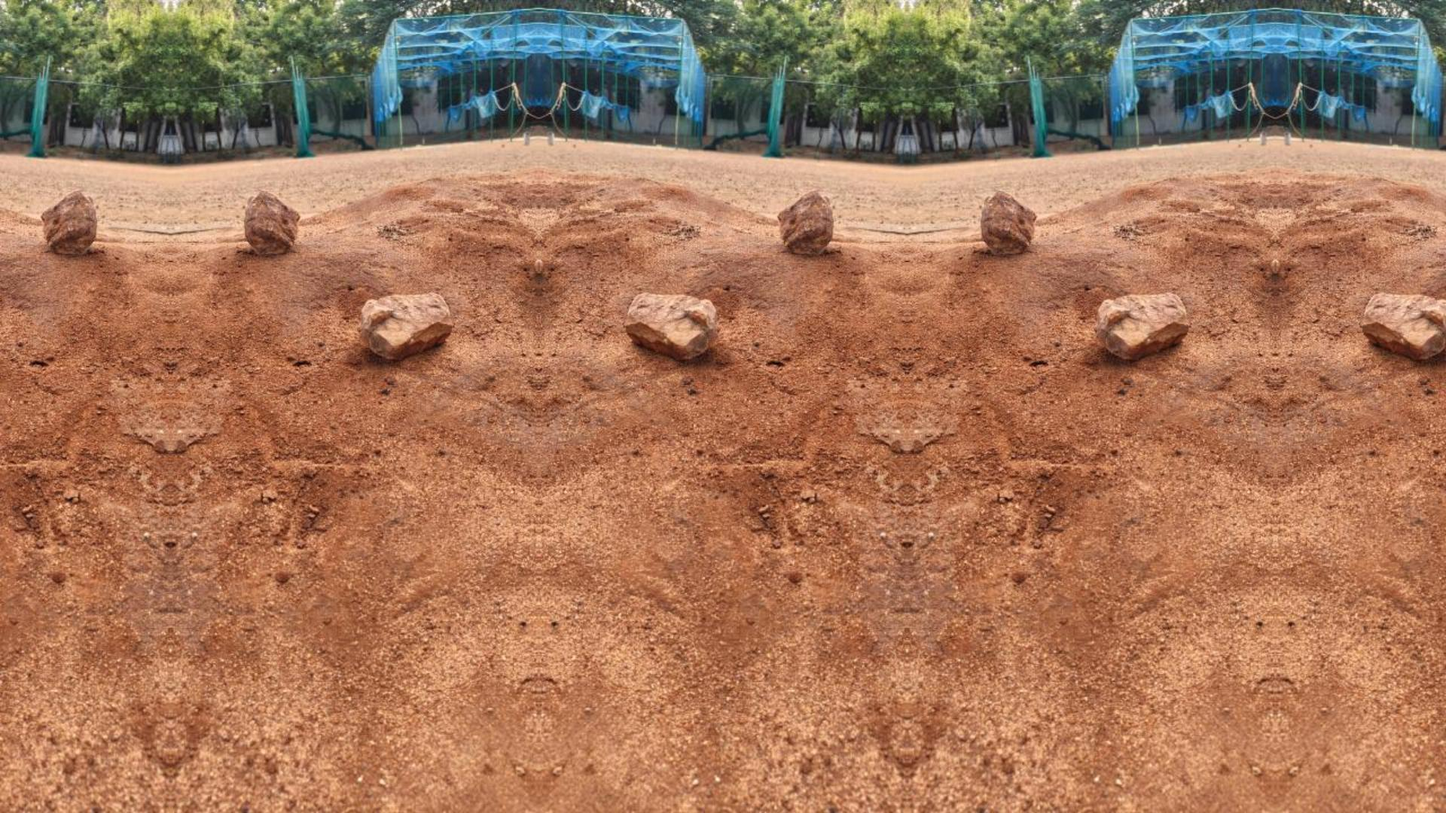rock: (1096, 292, 1190, 359), (624, 292, 717, 359), (359, 292, 452, 359), (1360, 294, 1445, 359), (777, 190, 833, 254), (244, 190, 299, 254), (41, 191, 96, 254), (981, 192, 1036, 253)
